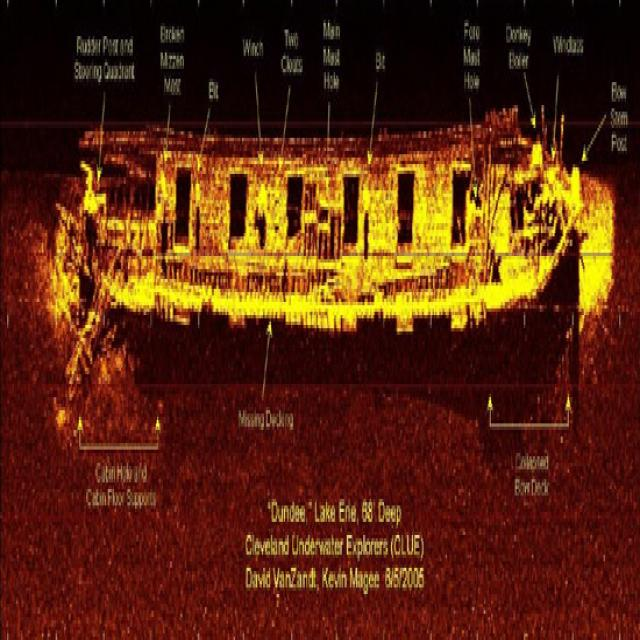ship: (71, 102, 583, 331)
